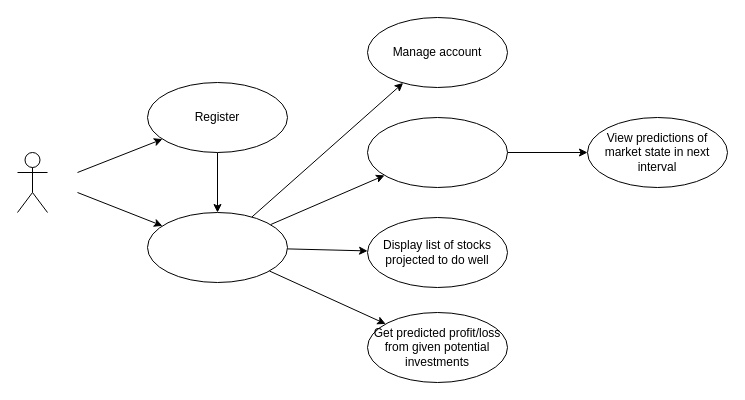
Some shapes in this 745 by 400 pixel diagram are drawn without their labels. Here are the shapes that lost their labels. From the top down, the centre of each, then its label:
point 437,152: Check current market prices
point 32,182: User
point 217,247: Sign-in
